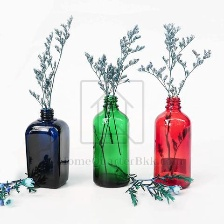bottle: (150, 94, 196, 193), (89, 94, 135, 191), (22, 104, 73, 191)
